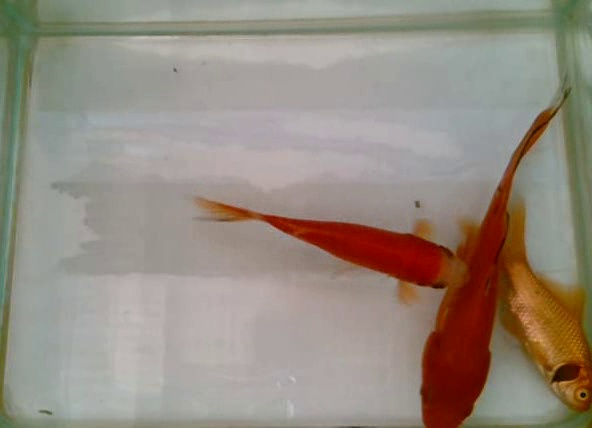alive_fish: (397, 66, 575, 428), (188, 187, 474, 313)
dead_fish: (455, 197, 592, 416)
